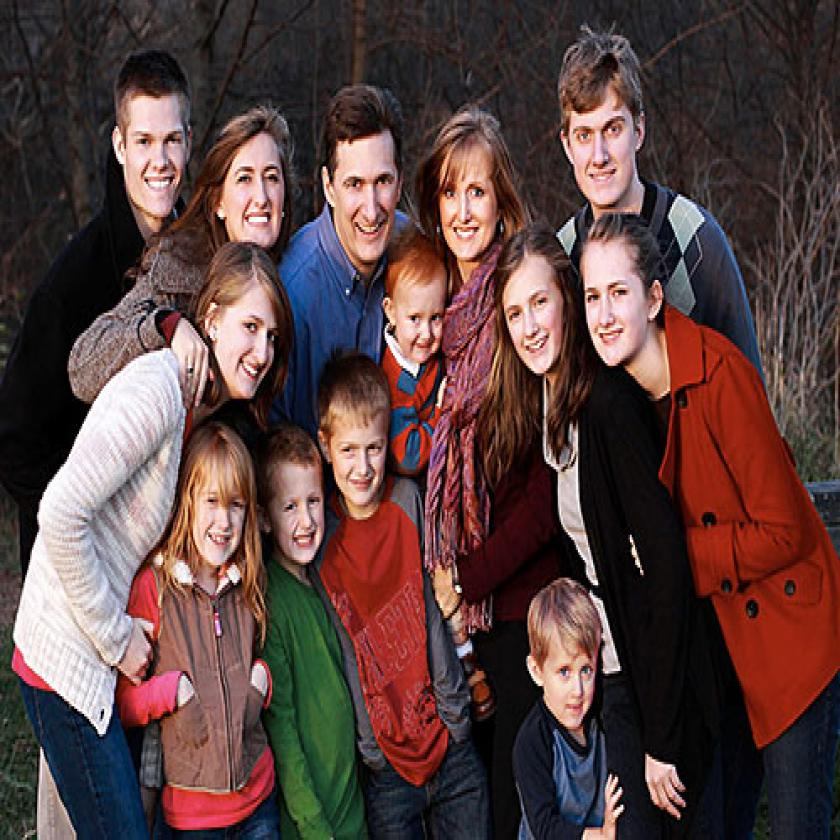Sin_casco: (546, 32, 648, 212), (520, 565, 606, 758), (576, 208, 662, 392), (208, 243, 289, 435), (321, 79, 400, 268), (113, 52, 192, 240), (493, 234, 574, 395), (322, 357, 396, 530), (436, 98, 506, 268), (186, 420, 260, 580), (219, 109, 291, 270), (262, 428, 324, 588), (388, 229, 450, 376)
